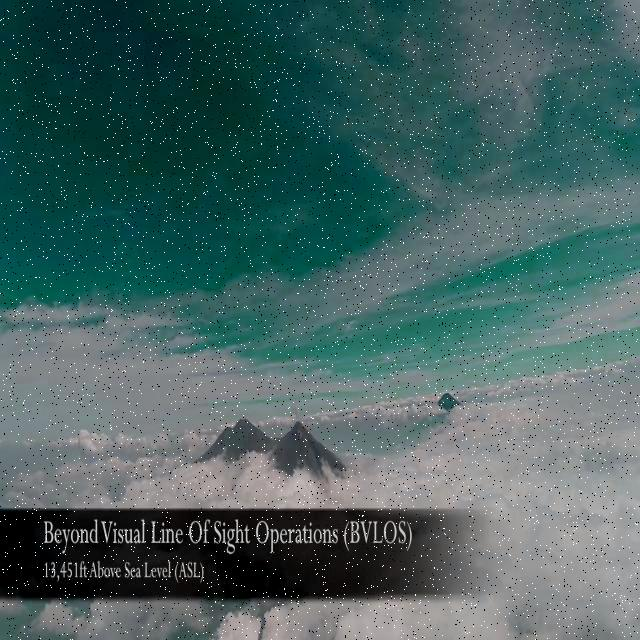Plume: (290, 394, 305, 424)
Summit: (274, 418, 326, 448)
